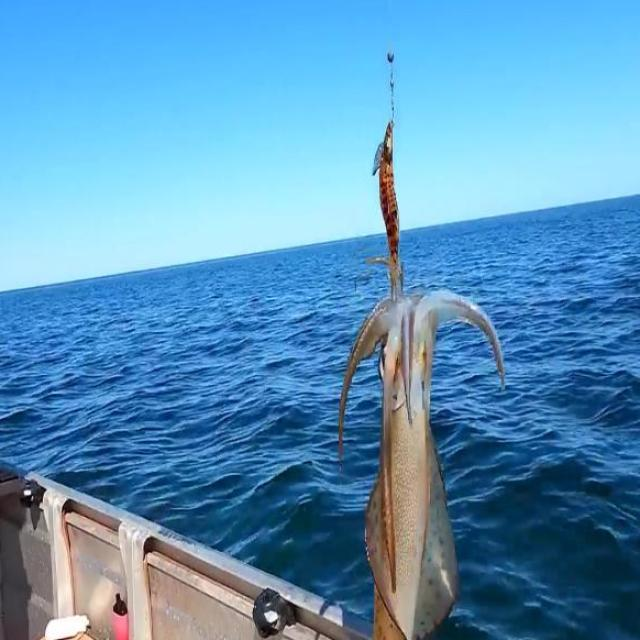SQUID: (316, 221, 522, 640)
